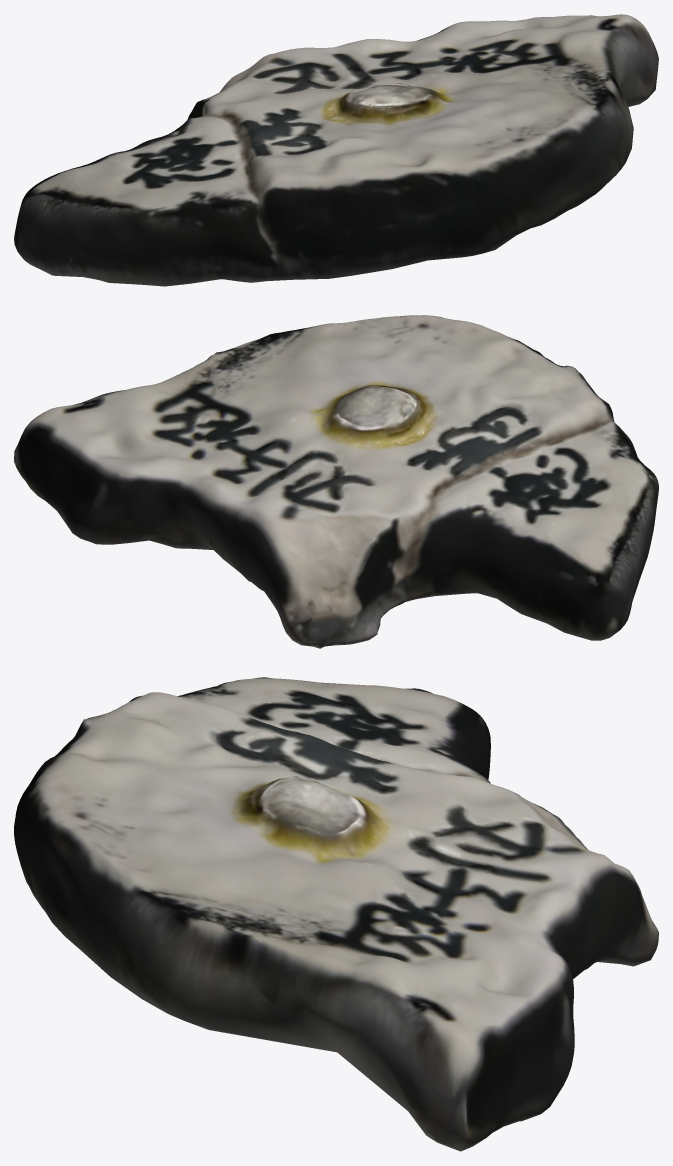
The picture shows the model from 3 angles, top to bottom: view 1: azimuth 30°, elevation 25°; view 2: azimuth 150°, elevation 25°; view 3: azimuth 270°, elevation 25°; orthographic projection. The views are drawn at different scales.
Size of the model in its own units: 0.5477 by 0.1335 by 0.3704.
Materials: 1 (1 with a texture image).
